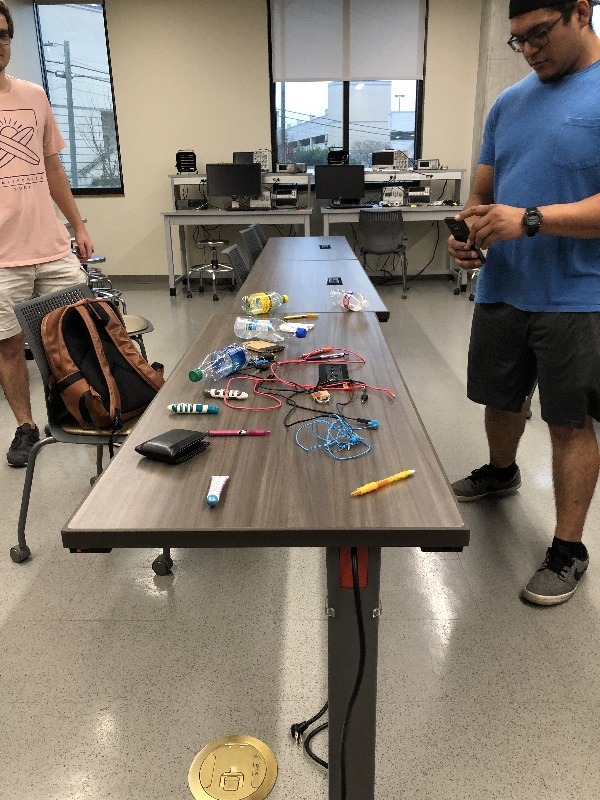bottle: (185, 339, 257, 387), (228, 311, 310, 344), (238, 289, 293, 314)
